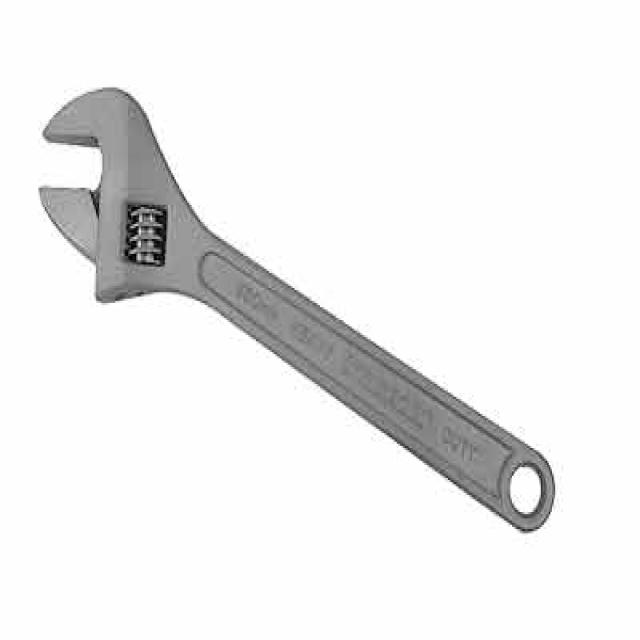wrench: (0, 11, 589, 548)
